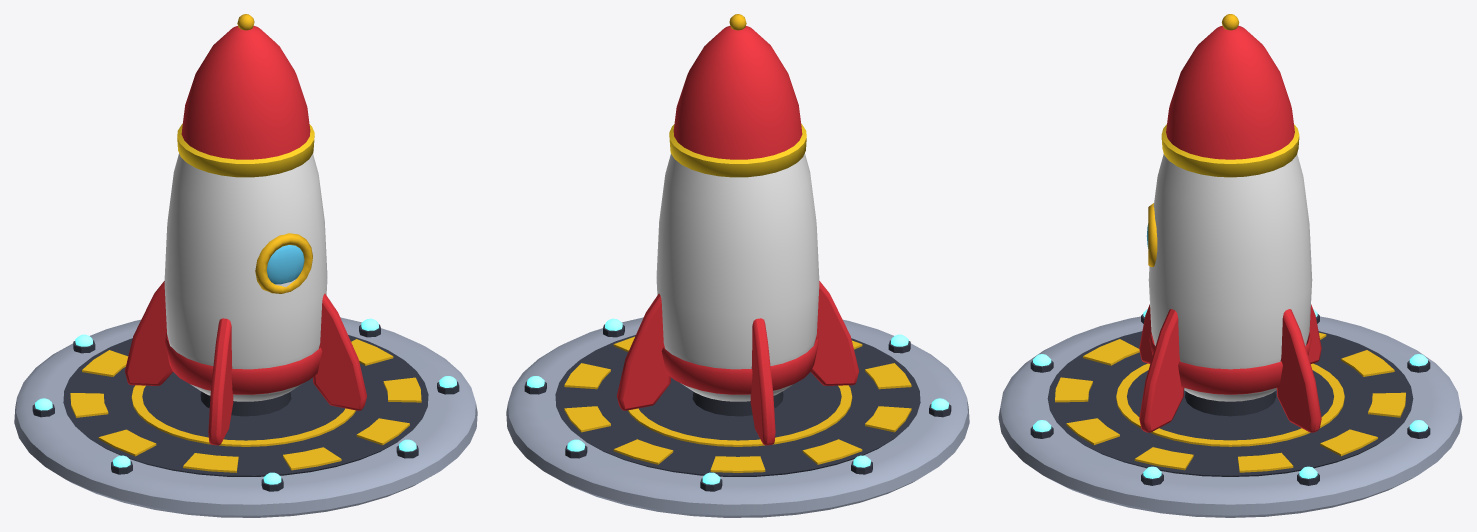
The model's file is rocket.glb.
The picture shows the model from 3 angles, left to right: view 1: azimuth 30°, elevation 25°; view 2: azimuth 150°, elevation 25°; view 3: azimuth 270°, elevation 25°; orthographic projection.
Parts seen in each view (by area): view 1: rocket; view 2: rocket; view 3: rocket.
Part boxes in pixels (x1=…): rocket: x1=14, y1=14, x2=477, y2=517; rocket: x1=506, y1=14, x2=969, y2=517; rocket: x1=998, y1=14, x2=1462, y2=517.
Size of the model in its own units: 5.28 by 5.13 by 5.28.
